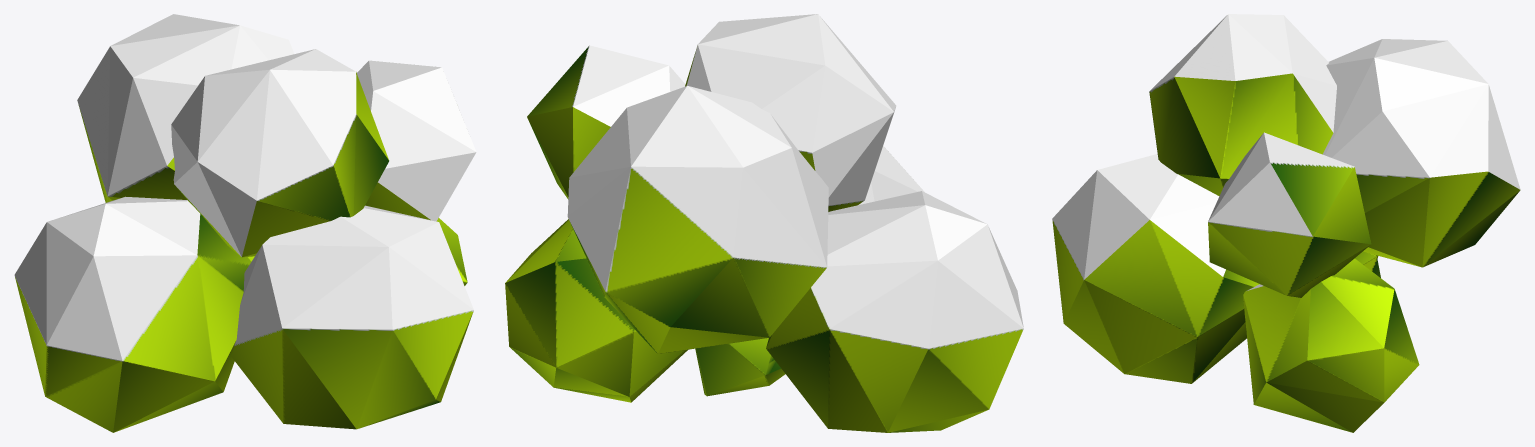
The model's file is Busch.fbx.
3 renders of one model, left to right at view 1: azimuth 30°, elevation 25°; view 2: azimuth 150°, elevation 25°; view 3: azimuth 270°, elevation 25°, orthographic. The views are drawn at different scales.
Visible parts, largest first — view 1: krone_1; view 2: krone_1; view 3: krone_1.
Boxes of the visible parts, left/top/right/bottom form: krone_1: left=14, top=14, right=476, bottom=432; krone_1: left=505, top=14, right=1023, bottom=432; krone_1: left=1052, top=14, right=1520, bottom=432.
Bounding box in the file's own units: 5554 × 4333 × 5378.
Materials: 1 (1 with a texture image).
